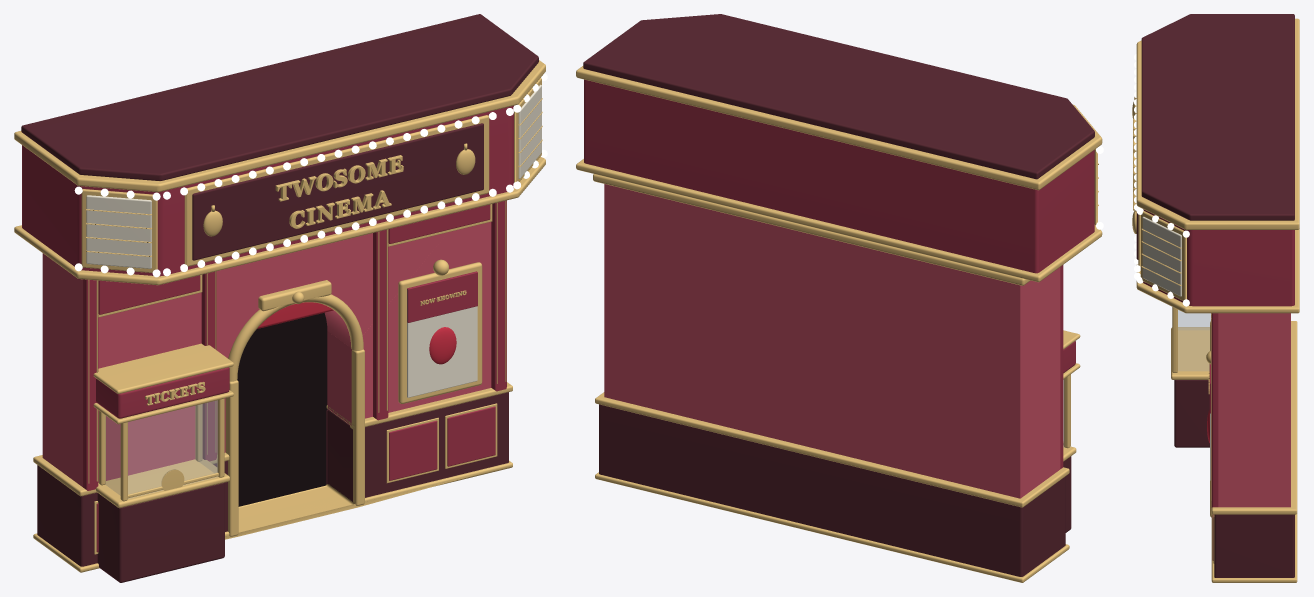
The model's file is loc.glb.
3 renders of one model, left to right at view 1: azimuth 30°, elevation 25°; view 2: azimuth 150°, elevation 25°; view 3: azimuth 270°, elevation 25°, orthographic. The views are drawn at different scales.
Parts seen in each view (by area): view 1: loc; view 2: loc; view 3: loc.
Boxes of the visible parts, x1=… form: loc: x1=14, y1=14, x2=547, y2=582; loc: x1=576, y1=14, x2=1103, y2=582; loc: x1=1132, y1=14, x2=1299, y2=582.
Bounding box in the file's own units: 6.05 × 5.14 × 2.08.
